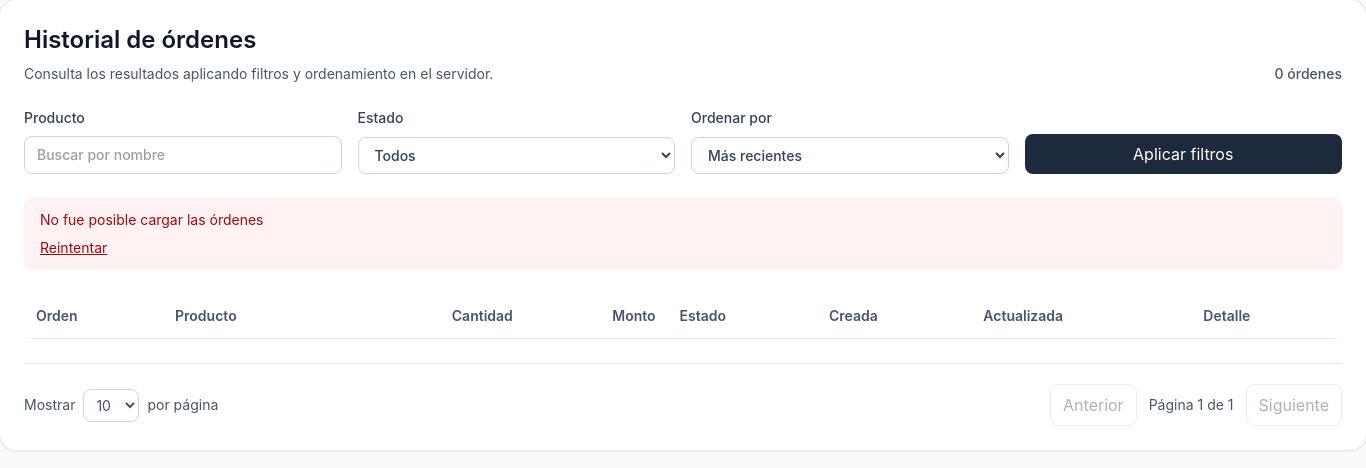
OrderHistory › informa errores y permite reintentar la consulta
Expected: the message shows "No fue posible cargar las órdenes", [40, 211, 264, 228]
Click the button "Reintentar" at [74, 248], box [40, 238, 107, 258]
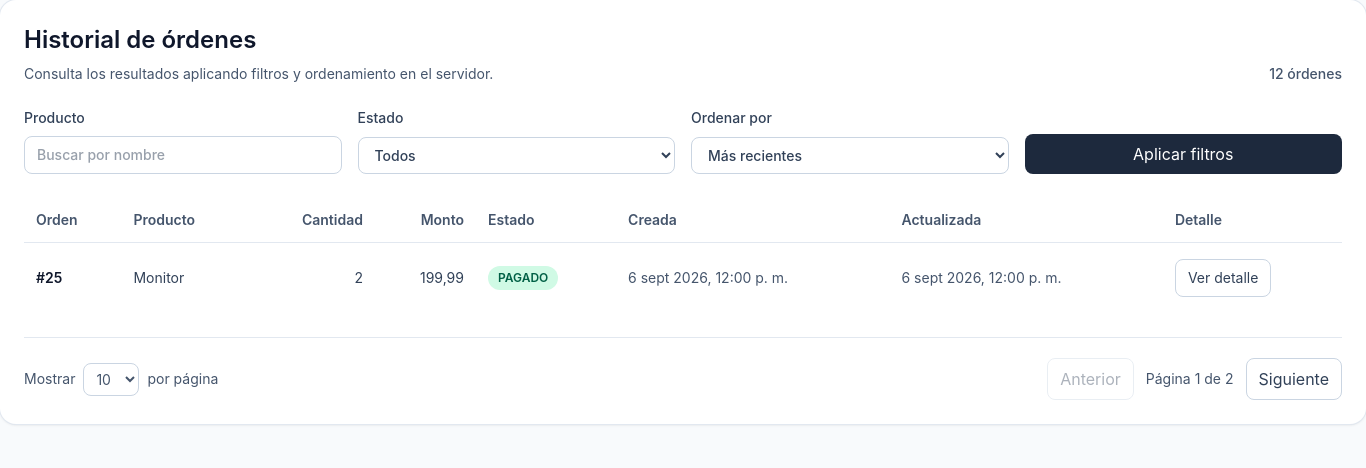
Result: the text "Monitor" is shown at [121, 243, 249, 313]
